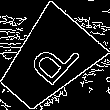P_SW: (17, 30, 79, 92)
